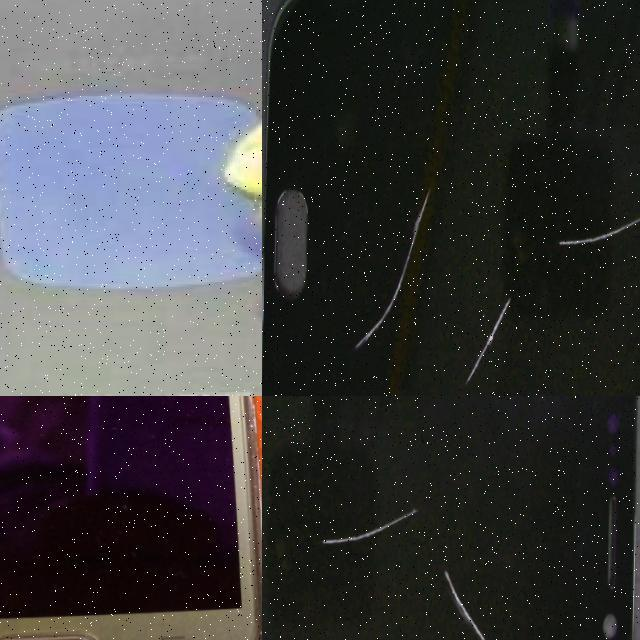scratch: (350, 163, 441, 364), (554, 185, 640, 262), (318, 499, 421, 563), (464, 287, 524, 389), (440, 550, 496, 640)
